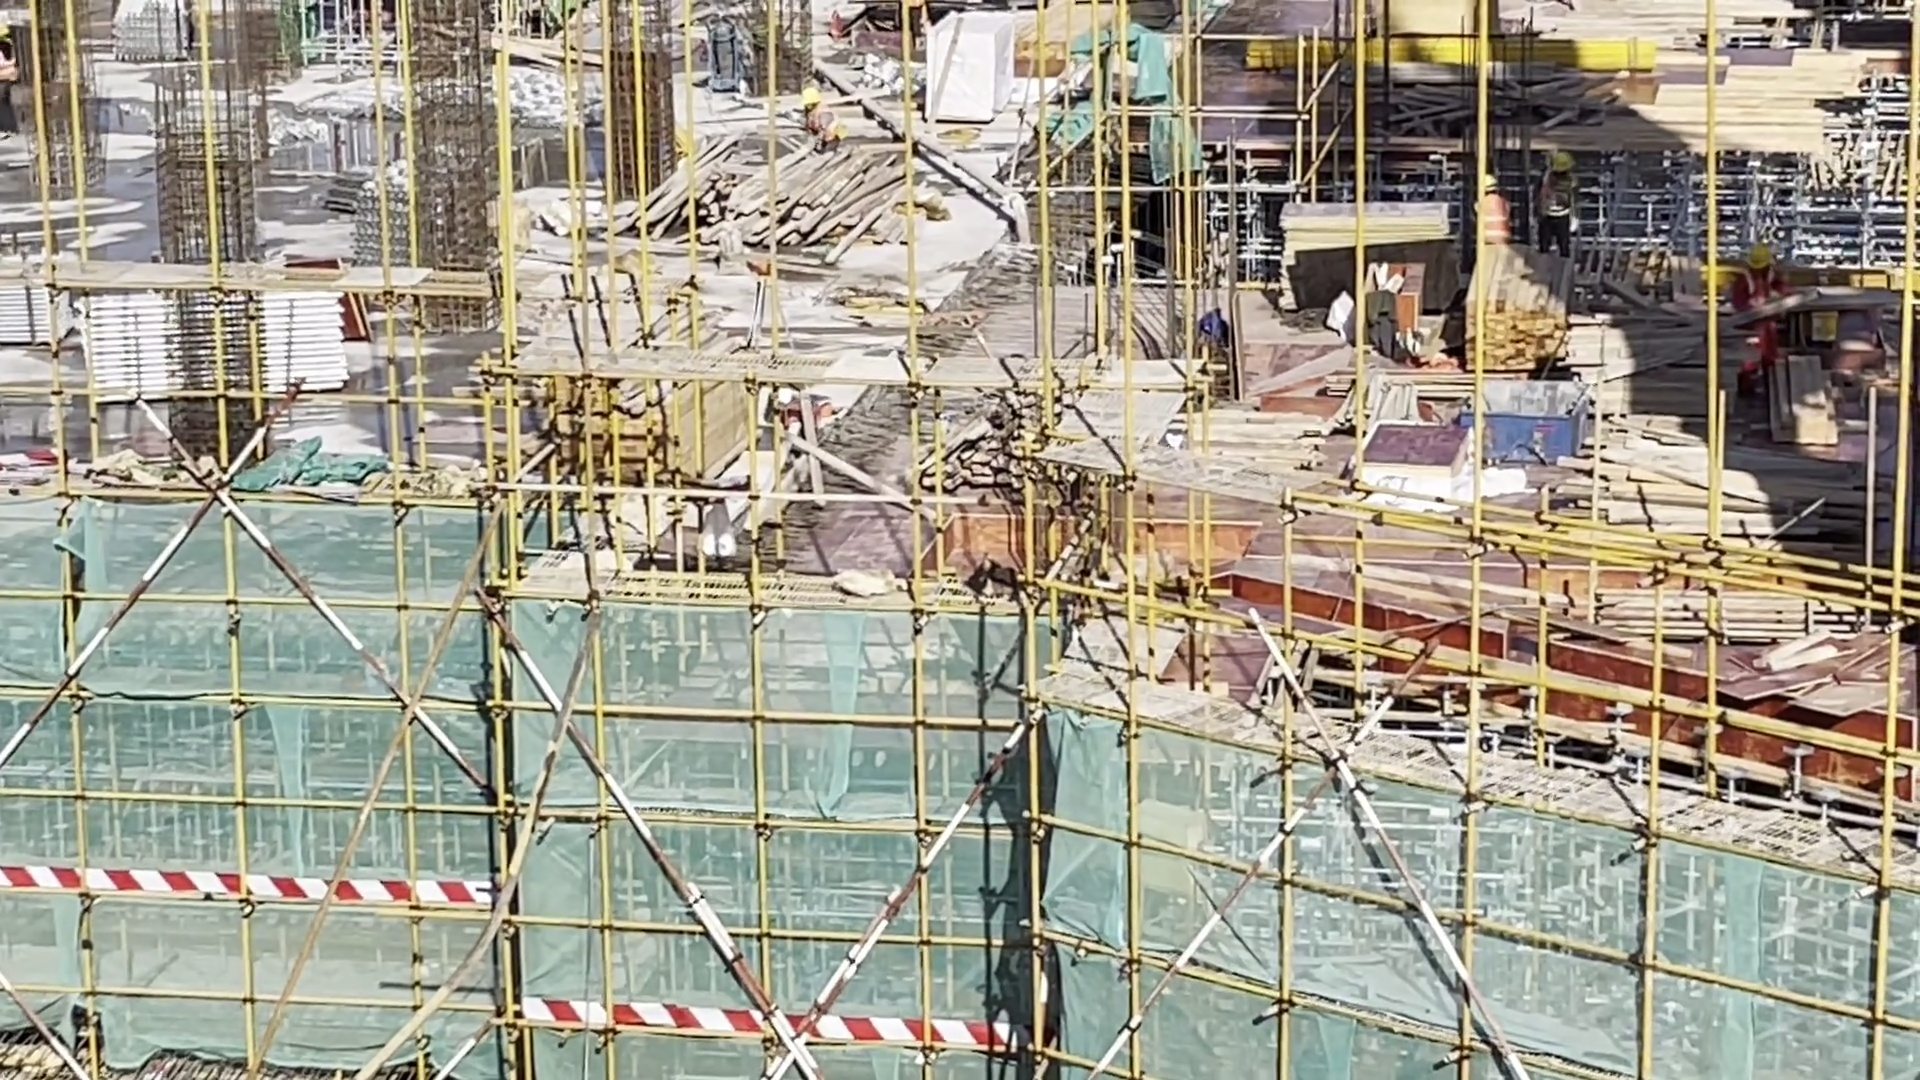board: (1722, 613, 1918, 737)
helmet: (1734, 242, 1773, 283), (1546, 153, 1570, 178), (1474, 171, 1496, 196), (771, 385, 789, 404)
hopper: (1462, 372, 1596, 471)
person: (1731, 245, 1798, 361), (1538, 149, 1582, 256), (755, 385, 830, 443), (1466, 173, 1519, 248)
scaffold: (70, 289, 355, 405), (6, 259, 78, 345)
vest: (1743, 285, 1782, 341)
wood: (464, 289, 747, 494), (634, 116, 915, 276), (1599, 585, 1836, 661), (1454, 271, 1582, 383)
